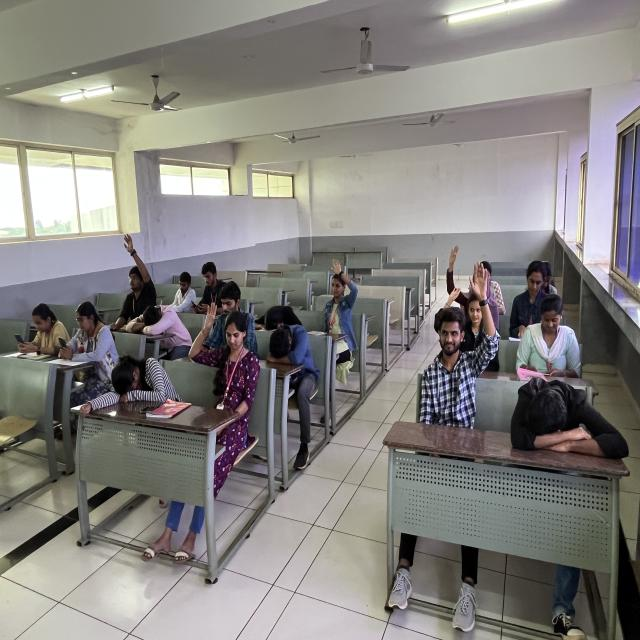Hand Rising: (426, 253, 499, 424), (184, 296, 256, 417), (319, 246, 359, 370), (113, 228, 161, 330)
Sleeping: (508, 366, 634, 470), (70, 343, 184, 423), (258, 319, 326, 389)
Using Phone: (513, 293, 589, 381), (60, 298, 124, 384), (9, 303, 66, 362), (186, 255, 233, 321)
